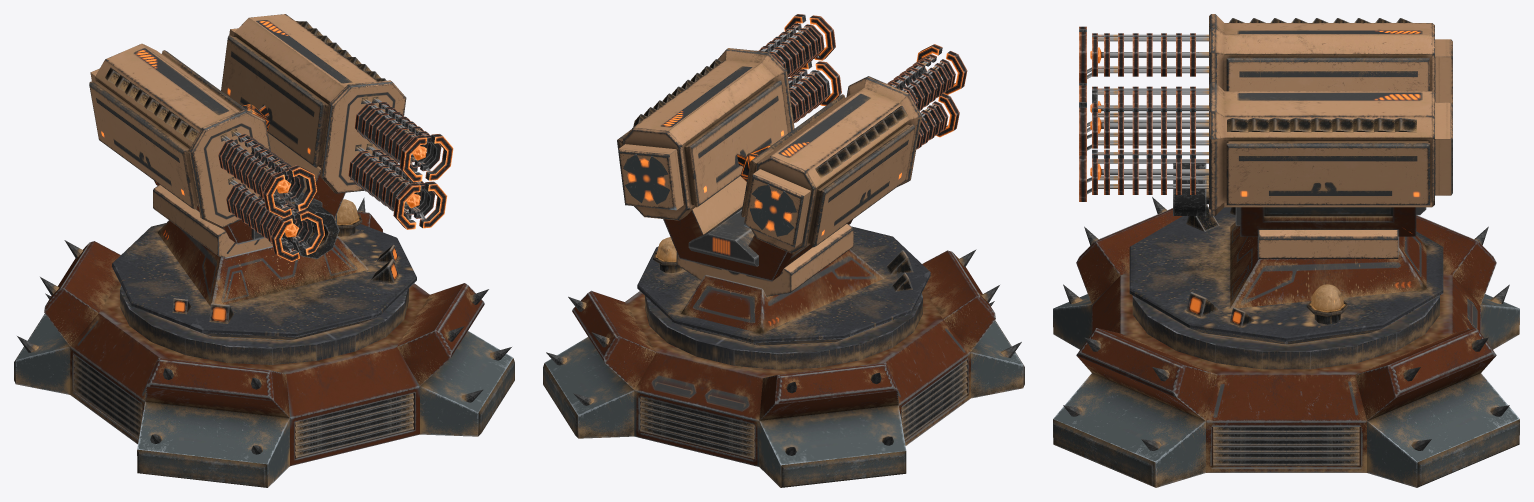
3 renders of one model, left to right at view 1: azimuth 30°, elevation 25°; view 2: azimuth 150°, elevation 25°; view 3: azimuth 270°, elevation 25°, orthographic. The views are drawn at different scales.
Parts seen in each view (by area): view 1: Base1, polySurface67, polySurface66, socleTourelle3, socleTourelle4, StructureBasseTourelle1, FrontVent1, StructureMoyenneTourelle1, StructureHauteTourelle1, RightVent2, RightVent1, PetitCanon1 (+10 smaller); view 2: Base1, polySurface66, polySurface67, socleTourelle3, StructureBasseTourelle1, socleTourelle4, StructureHauteTourelle1, Backvent1, StructureMoyenneTourelle1, StructureCristal1, RightVent1, RightVent2 (+3 smaller); view 3: Base1, polySurface67, polySurface66, socleTourelle3, StructureBasseTourelle1, socleTourelle4, StructureHauteTourelle1, StructureMoyenneTourelle1, RightVent2, RightVent1, Lampe1, PetitCanon1 (+4 smaller).
Part boxes in pixels (x1=…): Base1: x1=14, y1=211, x2=514, y2=487; polySurface67: x1=221, y1=14, x2=406, y2=193; polySurface66: x1=89, y1=43, x2=271, y2=228; socleTourelle3: x1=112, y1=223, x2=416, y2=340; socleTourelle4: x1=120, y1=286, x2=408, y2=364; StructureBasseTourelle1: x1=157, y1=220, x2=368, y2=306; FrontVent1: x1=295, y1=393, x2=413, y2=458; StructureMoyenneTourelle1: x1=153, y1=184, x2=336, y2=257; StructureHauteTourelle1: x1=154, y1=133, x2=345, y2=244; RightVent2: x1=73, y1=356, x2=108, y2=415; RightVent1: x1=107, y1=381, x2=142, y2=438; PetitCanon1: x1=282, y1=202, x2=339, y2=258; Base1: x1=543, y1=250, x2=1024, y2=487; polySurface66: x1=741, y1=76, x2=921, y2=253; polySurface67: x1=617, y1=48, x2=794, y2=220; socleTourelle3: x1=637, y1=226, x2=930, y2=345; StructureBasseTourelle1: x1=681, y1=249, x2=884, y2=333; socleTourelle4: x1=645, y1=293, x2=922, y2=369; StructureHauteTourelle1: x1=663, y1=176, x2=852, y2=281; Backvent1: x1=640, y1=397, x2=754, y2=459; StructureMoyenneTourelle1: x1=676, y1=224, x2=853, y2=296; StructureCristal1: x1=688, y1=206, x2=758, y2=266; RightVent1: x1=933, y1=360, x2=967, y2=418; RightVent2: x1=901, y1=385, x2=934, y2=440; Base1: x1=1053, y1=208, x2=1519, y2=487; polySurface67: x1=1209, y1=82, x2=1452, y2=215; polySurface66: x1=1209, y1=14, x2=1452, y2=104; socleTourelle3: x1=1129, y1=207, x2=1443, y2=344; StructureBasseTourelle1: x1=1230, y1=222, x2=1426, y2=308; socleTourelle4: x1=1132, y1=295, x2=1439, y2=369; StructureHauteTourelle1: x1=1240, y1=207, x2=1416, y2=236; StructureMoyenneTourelle1: x1=1258, y1=230, x2=1398, y2=258; RightVent2: x1=1286, y1=427, x2=1359, y2=465; RightVent1: x1=1213, y1=427, x2=1286, y2=465; Lampe1: x1=1306, y1=284, x2=1348, y2=324; PetitCanon1: x1=1173, y1=163, x2=1206, y2=215.
Bounding box in the file's own units: 2 × 1.58 × 2.
1 material, 1 textured.
